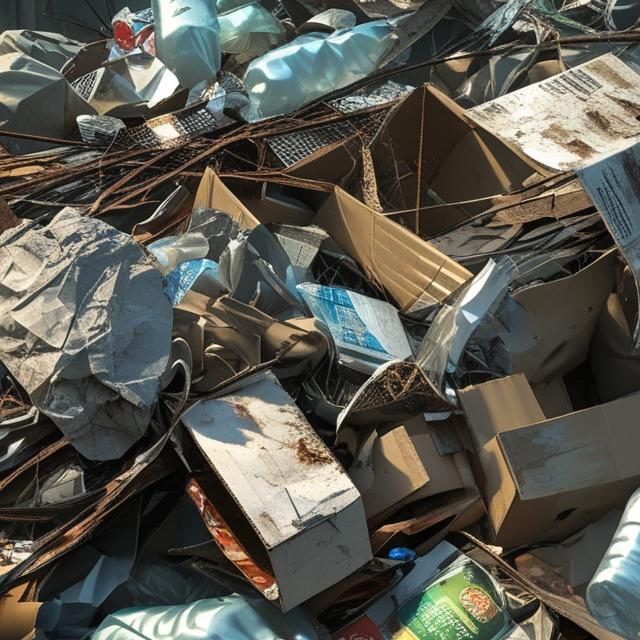metal: (80, 605, 315, 640)
plastic: (580, 435, 640, 640)
